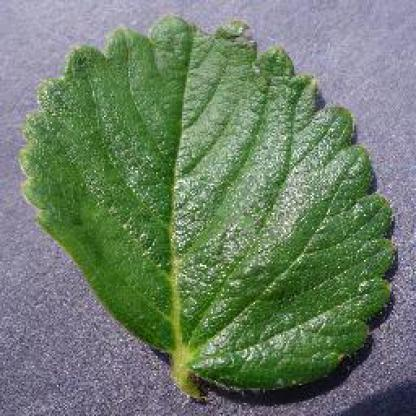healthy: (13, 8, 398, 408)
